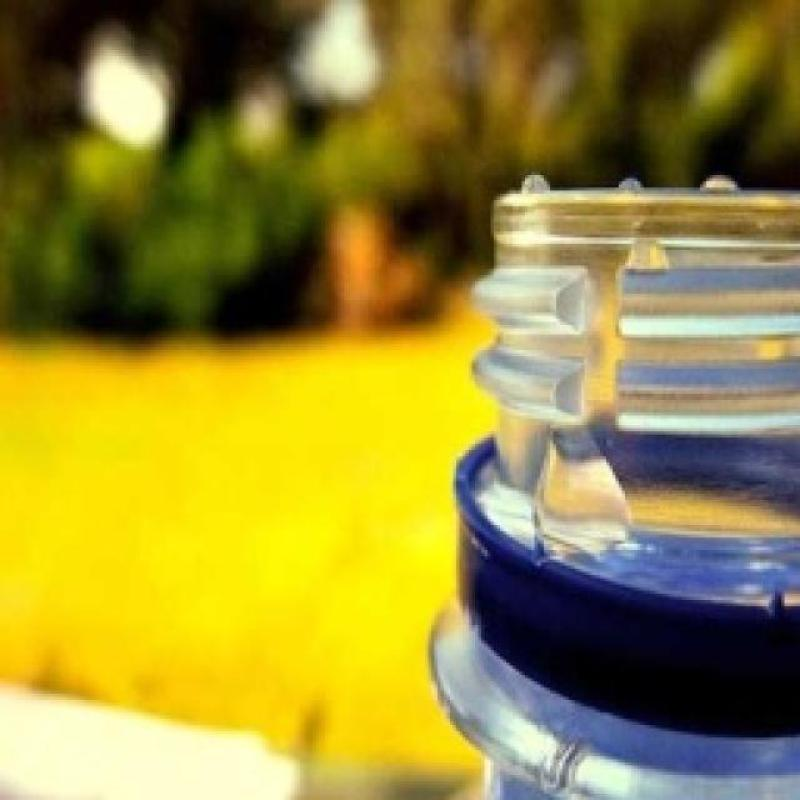botella: (427, 190, 800, 800)
